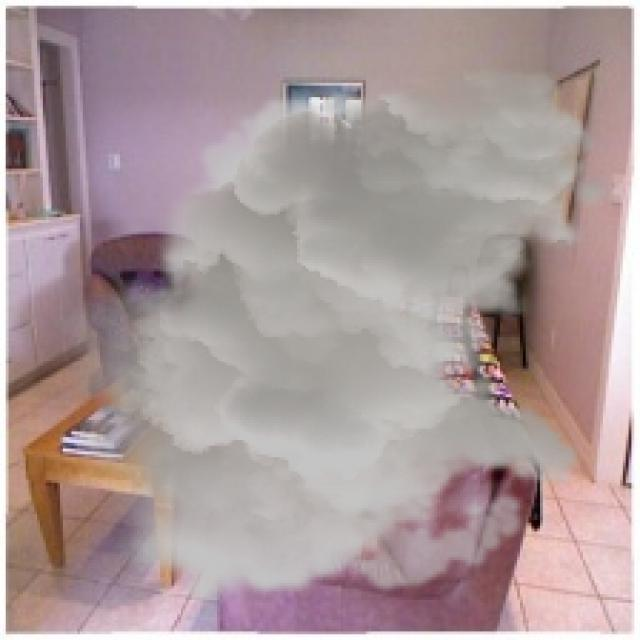Smoke: (52, 62, 618, 608)
